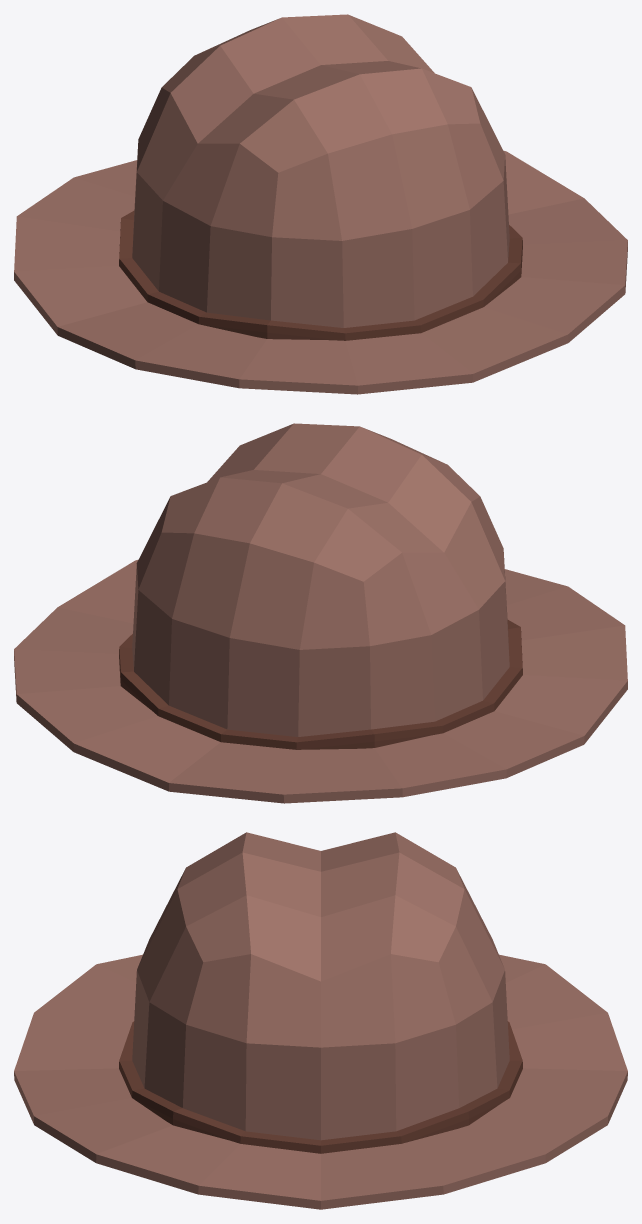
The model's file is Hoed.fbx.
3 views of the same model, one above another, from view 1: azimuth 30°, elevation 25°; view 2: azimuth 150°, elevation 25°; view 3: azimuth 270°, elevation 25° (orthographic).
Visible parts, largest first — view 1: Hoed, Rand; view 2: Hoed, Rand; view 3: Hoed, Rand.
Part boxes in pixels (left/top/right/bottom): Hoed: left=14, top=14, right=627, bottom=394; Rand: left=119, top=211, right=522, bottom=340; Hoed: left=14, top=423, right=627, bottom=803; Rand: left=119, top=620, right=522, bottom=749; Hoed: left=14, top=832, right=627, bottom=1209; Rand: left=119, top=1021, right=522, bottom=1153.
Size of the model in its own units: 353 by 144 by 353.
1 material, 1 textured.
